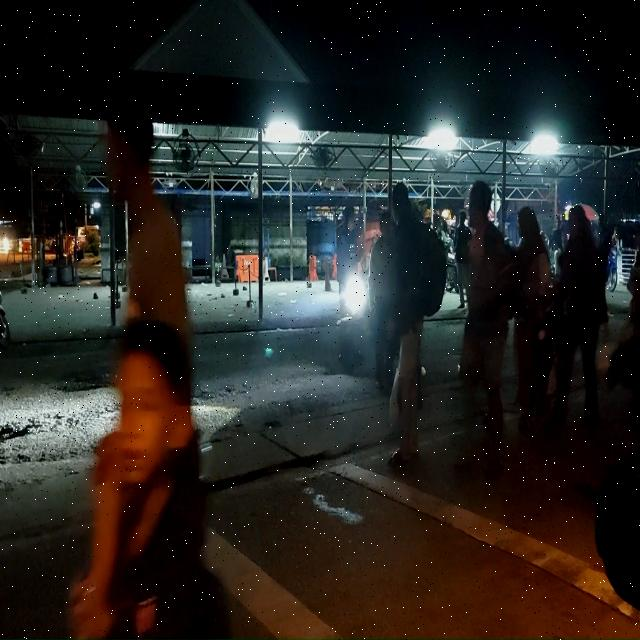Golongan II: (337, 273, 369, 372), (445, 243, 459, 293), (606, 247, 618, 292)
